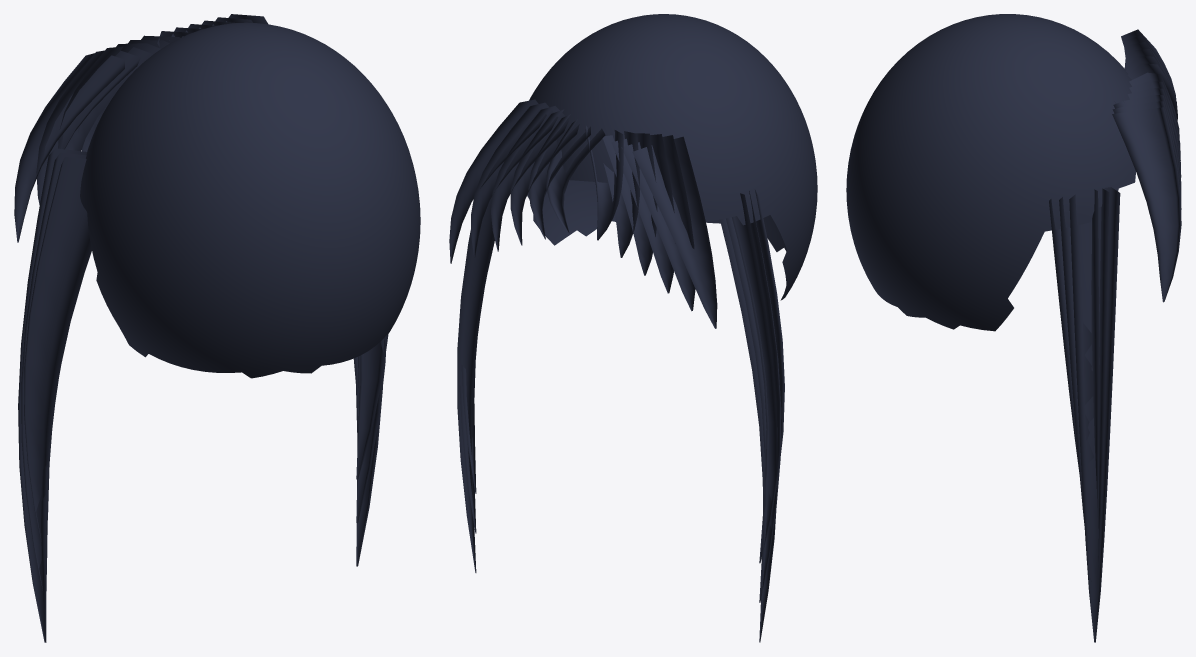
Rendered from anime_hair_sora.glb.
3 renders of one model, left to right at view 1: azimuth 30°, elevation 25°; view 2: azimuth 150°, elevation 25°; view 3: azimuth 270°, elevation 25°, orthographic. The views are drawn at different scales.
Visible parts, largest first — view 1: hair_cap, hair; view 2: hair, hair_cap; view 3: hair_cap, hair.
Part boxes in pixels (left/top/right/bottom): hair_cap: left=80, top=22, right=420, bottom=378; hair: left=14, top=14, right=388, bottom=642; hair: left=449, top=99, right=784, bottom=642; hair_cap: left=527, top=14, right=817, bottom=300; hair_cap: left=846, top=14, right=1135, bottom=331; hair: left=1049, top=29, right=1181, bottom=642.
Size of the model in its own units: 0.3433 by 0.554 by 0.3074.
